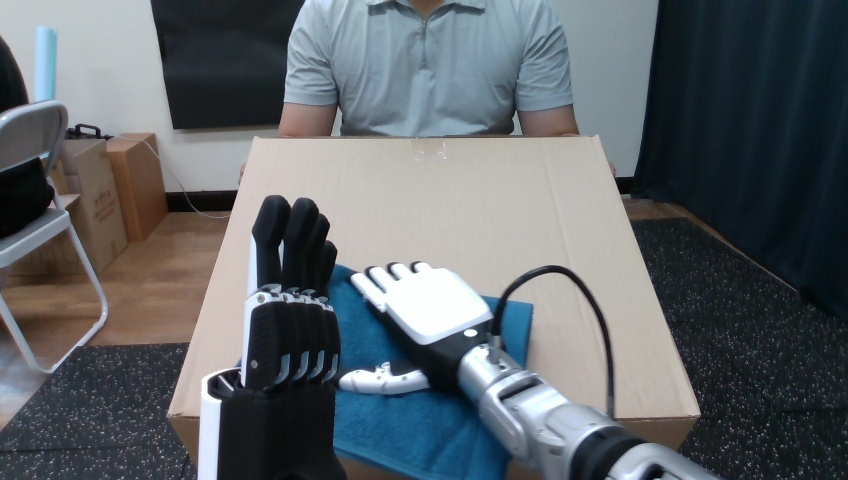left robot hand: (339, 262, 717, 479), (198, 195, 345, 479), (498, 271, 609, 415)
